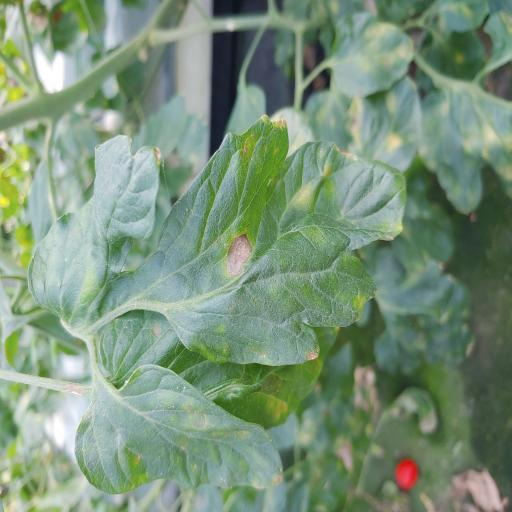Leaf Mold: (30, 112, 408, 366), (75, 362, 284, 496), (332, 10, 416, 98)
